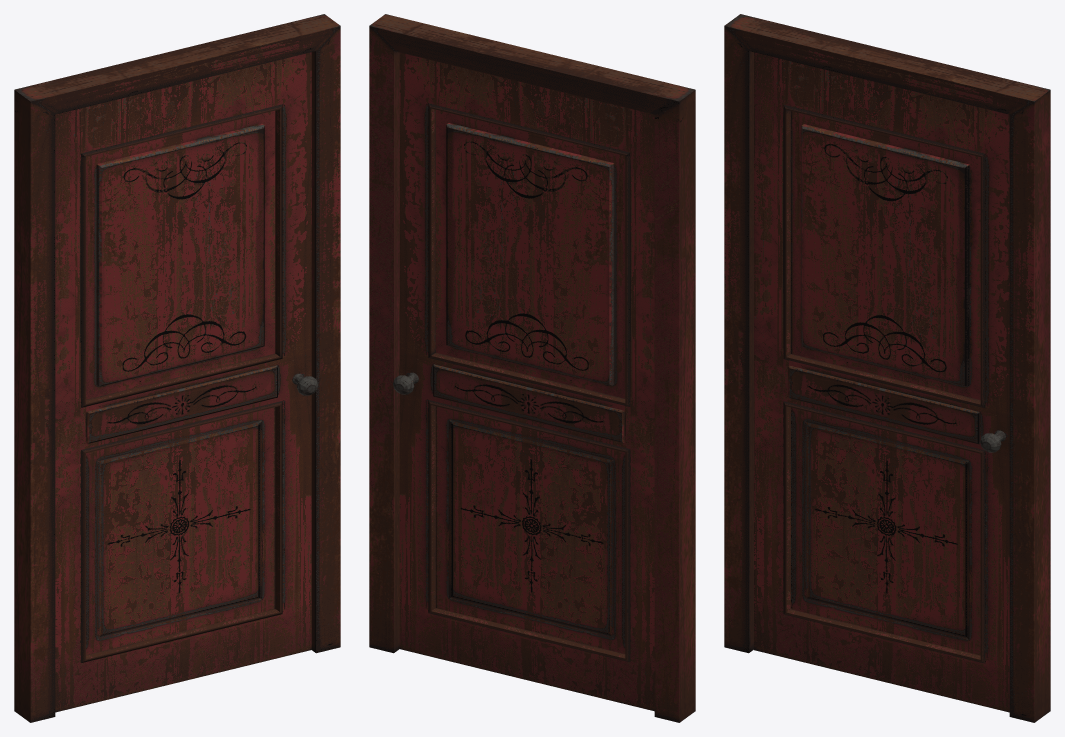
Rendered from Door.fbx.
3 views of the same model, side by side, from view 1: azimuth 30°, elevation 25°; view 2: azimuth 150°, elevation 25°; view 3: azimuth 330°, elevation 25° (orthographic).
Parts seen in each view (by area): view 1: dooor, prooem; view 2: dooor, prooem; view 3: dooor, prooem.
Part boxes in pixels (<box>): dooor: <box>55,52,318,712</box>; prooem: <box>14,14,340,722</box>; dooor: <box>393,52,654,711</box>; prooem: <box>369,14,695,722</box>; dooor: <box>754,52,1009,712</box>; prooem: <box>724,14,1050,722</box>.
Size of the model in its own units: 104 by 199 by 19.54.
